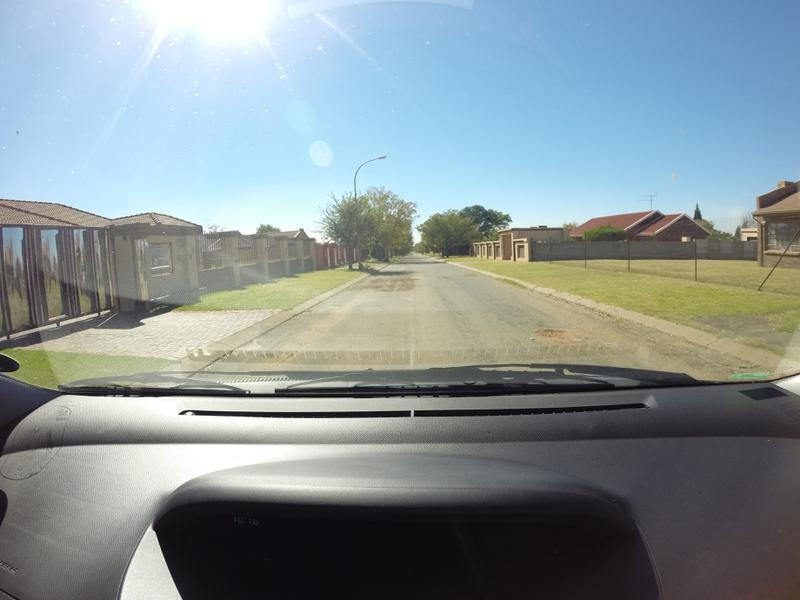pothole: (532, 321, 588, 348)
